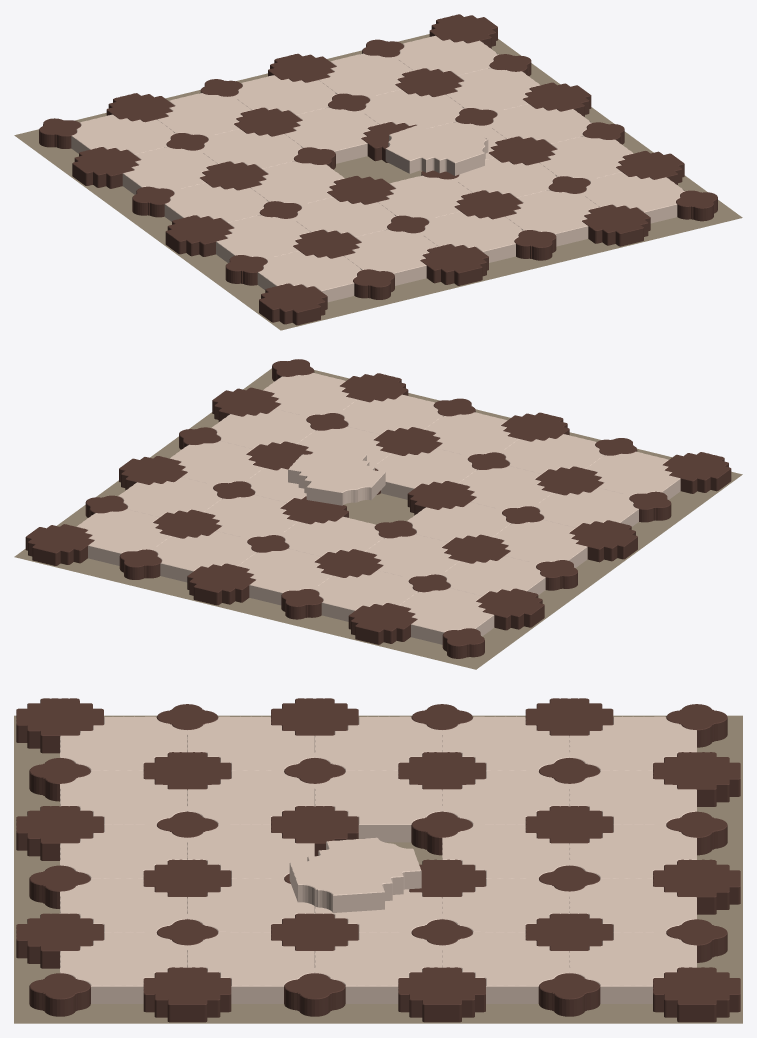
File: terilgan.glb
The picture shows the model from 3 angles, top to bottom: view 1: azimuth 30°, elevation 25°; view 2: azimuth 150°, elevation 25°; view 3: azimuth 270°, elevation 25°; orthographic projection. The views are drawn at different scales.
Parts seen in each view (by area): view 1: qum, t.035, t.027, t.028, t.048, t.018, t.059, t.047, t.002, t.010, t.005, t.013 (+49 smaller); view 2: qum, t.035, t.005, t.043, t.021, t.022, t.006, t.032, t.027, t.013, t.002, t.010 (+49 smaller); view 3: qum, t.035, t.055, t.040, t.043, t.052, t.059, t.014, t.021, t.018, t.013, t.047 (+49 smaller).
Boxes of the visible parts, x1,y1,x2,y2 form: qum: [14, 34, 742, 330]; t.035: [385, 125, 488, 175]; t.027: [257, 251, 361, 302]; t.028: [343, 229, 437, 285]; t.048: [505, 190, 599, 246]; t.018: [285, 107, 378, 163]; t.059: [581, 172, 684, 223]; t.047: [420, 211, 523, 262]; t.002: [122, 146, 217, 194]; t.010: [216, 215, 310, 262]; t.005: [71, 114, 175, 154]; t.013: [164, 183, 268, 222]; qum: [14, 368, 742, 669]; t.035: [288, 448, 385, 505]; t.005: [399, 588, 494, 644]; t.043: [77, 509, 170, 565]; t.021: [238, 548, 332, 605]; t.022: [152, 531, 256, 582]; t.006: [314, 570, 417, 621]; t.032: [374, 448, 477, 499]; t.027: [586, 451, 680, 499]; t.013: [493, 520, 587, 567]; t.002: [441, 556, 545, 596]; t.010: [534, 488, 638, 527]; qum: [14, 715, 742, 1023]; t.035: [289, 837, 421, 912]; t.055: [314, 932, 442, 1003]; t.040: [442, 932, 569, 1003]; t.043: [569, 932, 696, 1003]; t.052: [187, 932, 314, 1003]; t.059: [60, 932, 187, 1003]; t.014: [314, 770, 442, 842]; t.021: [569, 824, 696, 878]; t.018: [442, 824, 569, 878]; t.013: [314, 716, 442, 770]; t.047: [60, 824, 187, 878].
Bounding box in the file's own units: 1.66 × 0.092 × 1.66.
